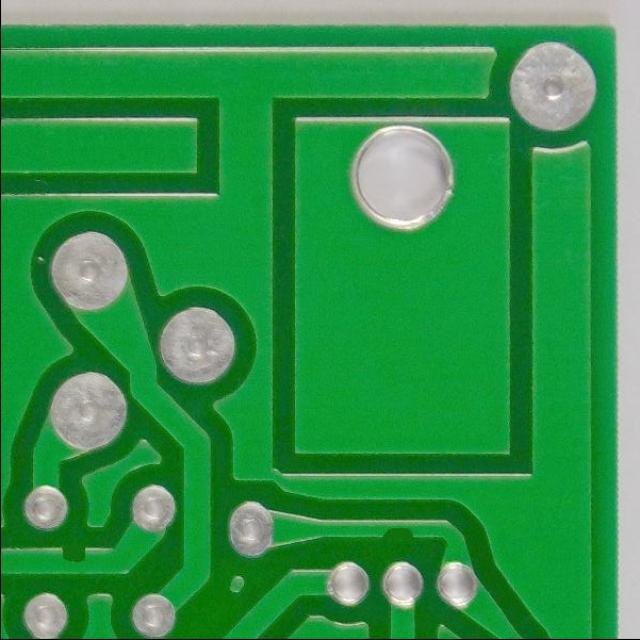mouse_bite: (374, 511, 420, 551), (51, 538, 92, 579)
